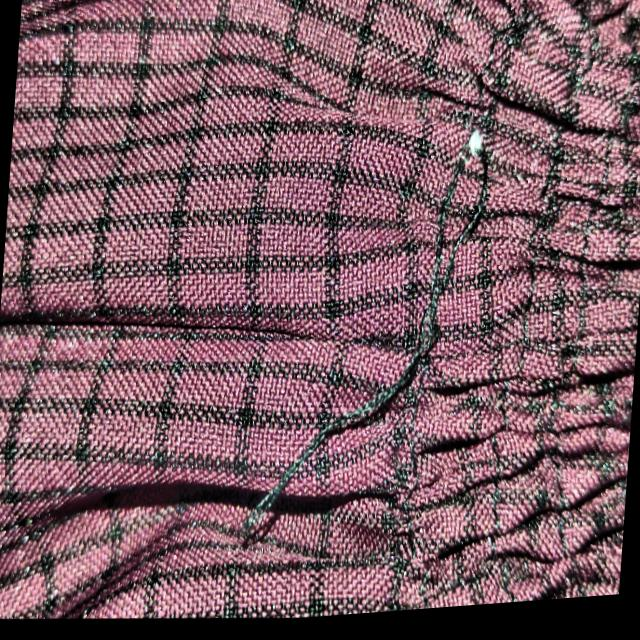Stitch: (227, 114, 532, 590)
